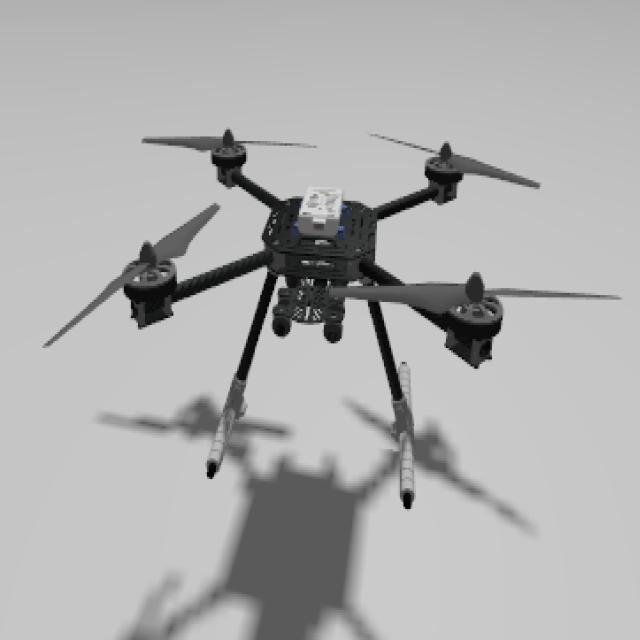drone: (37, 105, 621, 519)
